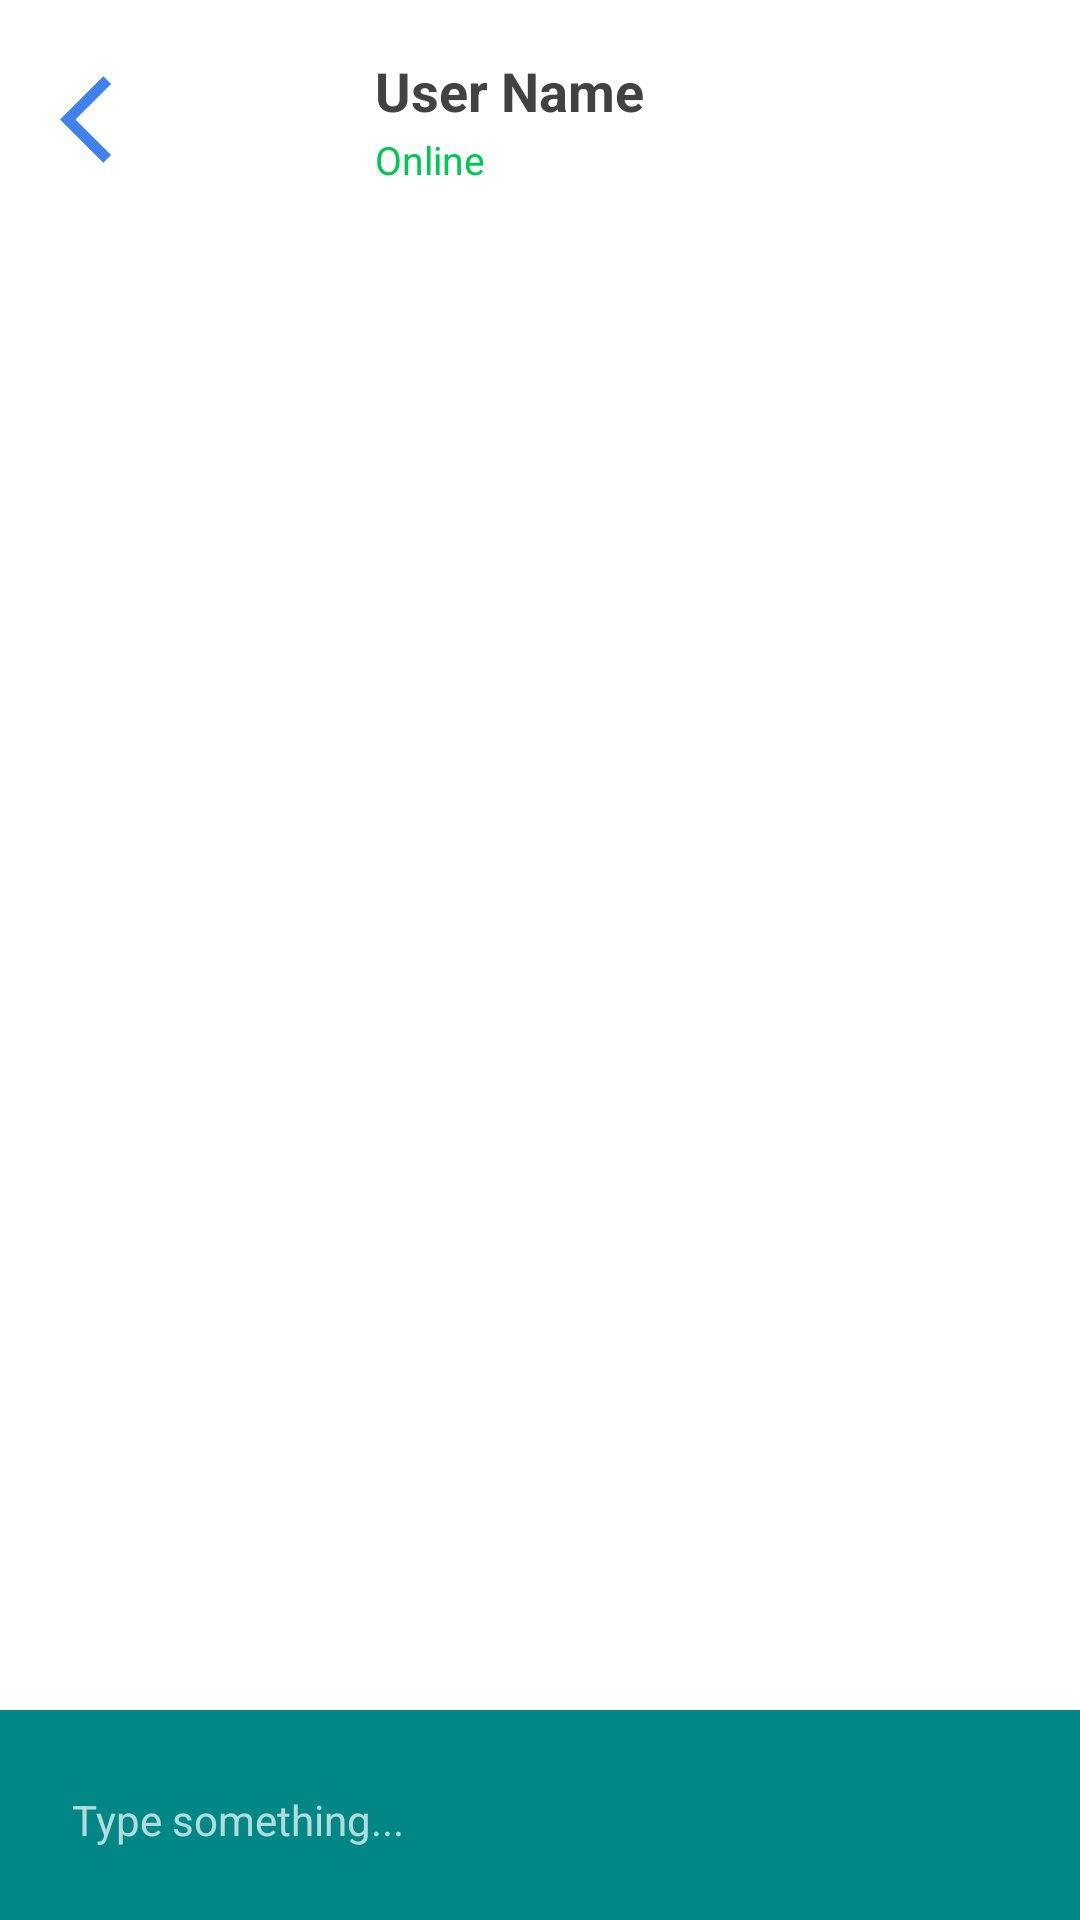

Named icons in this screenshot (1080x1920) and their bounding boxes, Rect(x1, y1, x2, y2):
arrow back: Rect(60, 76, 111, 163)
